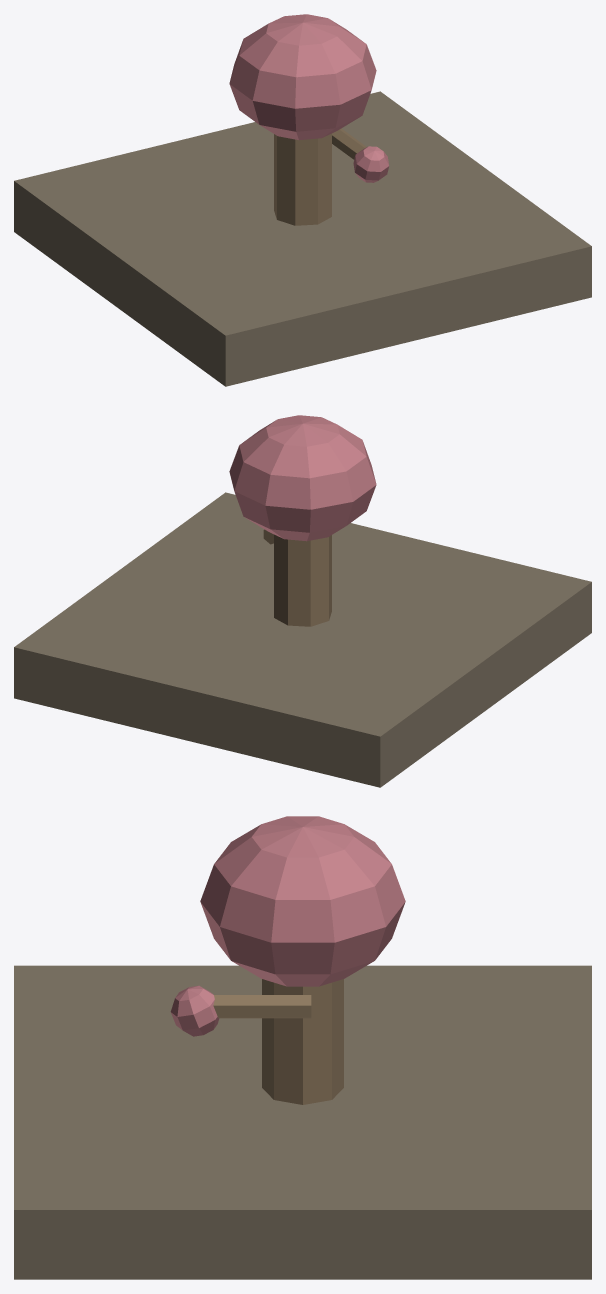
The model's file is elf_thornbush.glb.
3 renders of one model, top to bottom at view 1: azimuth 30°, elevation 25°; view 2: azimuth 150°, elevation 25°; view 3: azimuth 270°, elevation 25°, orthographic. The views are drawn at different scales.
Parts seen in each view (by area): view 1: Base, TurretMesh, BranchMesh; view 2: Base, TurretMesh; view 3: Base, TurretMesh, BranchMesh.
Part boxes in pixels (x1,y1,x2,y2): Base: (14,91,591,386); TurretMesh: (229,14,376,225); BranchMesh: (332,128,388,182); Base: (14,492,591,787); TurretMesh: (229,415,376,626); Base: (14,965,591,1279); TurretMesh: (200,816,405,1104); BranchMesh: (170,985,311,1036).
Size of the model in its own units: 1.8 by 1.14 by 1.8.
